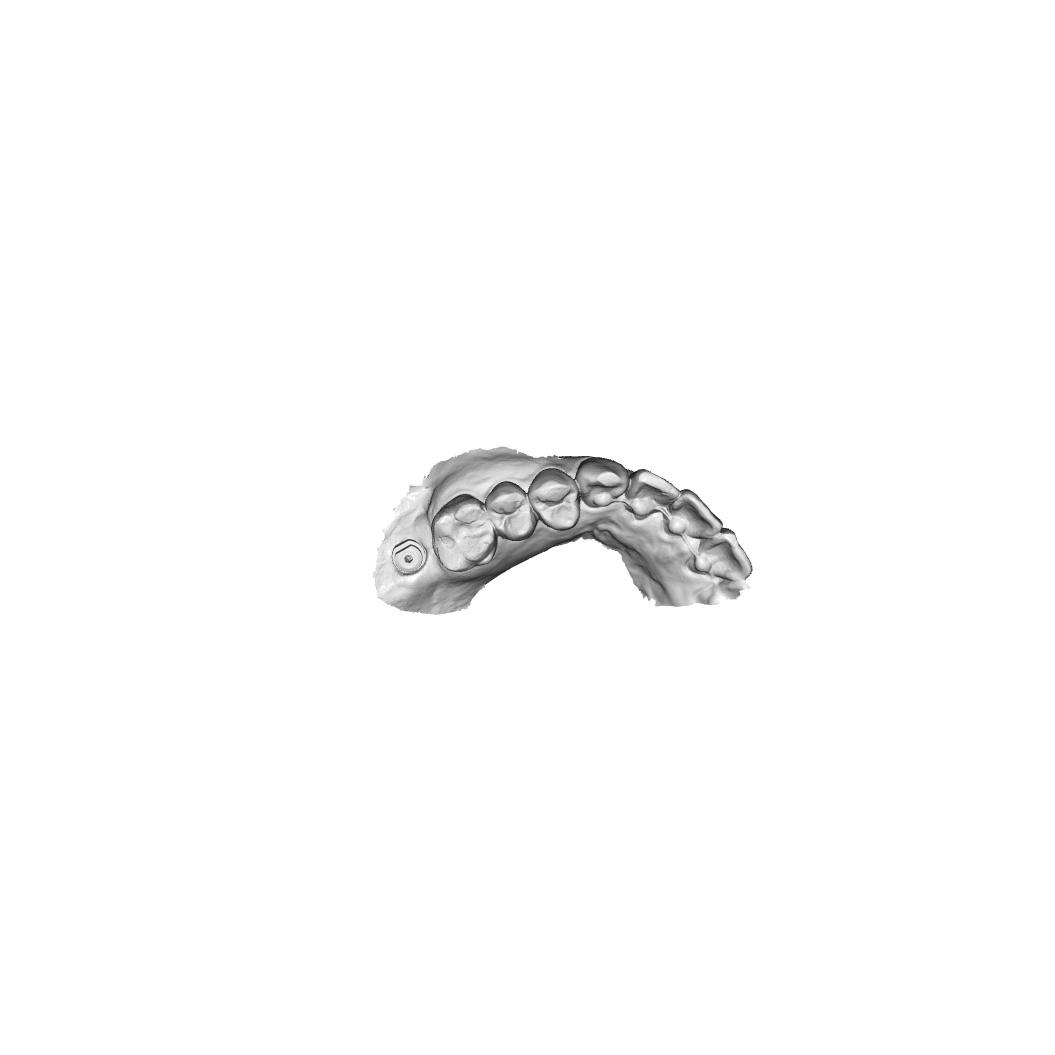canine: (575, 455, 631, 509)
implant: (390, 536, 427, 577)
incisor: (686, 527, 754, 583), (662, 487, 725, 541), (627, 467, 683, 520)
molar: (429, 492, 499, 574)
premolar: (525, 466, 581, 533), (483, 479, 537, 541)
